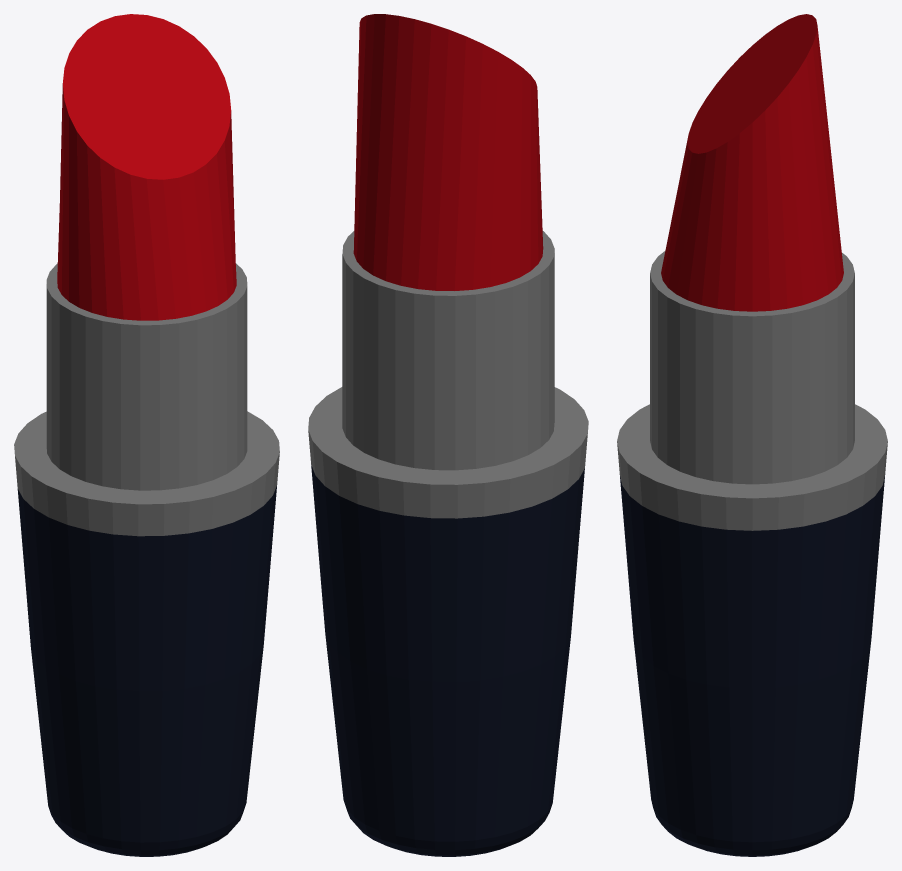
The model's file is lipstick.fbx.
3 views of the same model, side by side, from view 1: azimuth 30°, elevation 25°; view 2: azimuth 150°, elevation 25°; view 3: azimuth 270°, elevation 25° (orthographic). The views are drawn at different scales.
Visible parts, largest first — view 1: Circle.001; view 2: Circle.001; view 3: Circle.001.
Boxes of the visible parts, bbox=[...] form: Circle.001: bbox=[14, 14, 279, 856]; Circle.001: bbox=[308, 14, 588, 856]; Circle.001: bbox=[617, 14, 887, 856].
Bounding box in the file's own units: 18.41 × 59.87 × 18.41.
